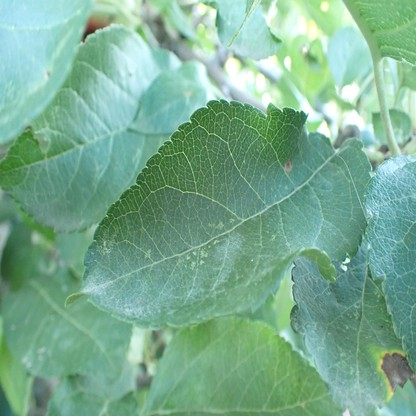frogeye: (285, 159, 293, 171)
powder: (82, 232, 245, 319), (348, 379, 379, 407)
rust: (369, 344, 415, 400)
